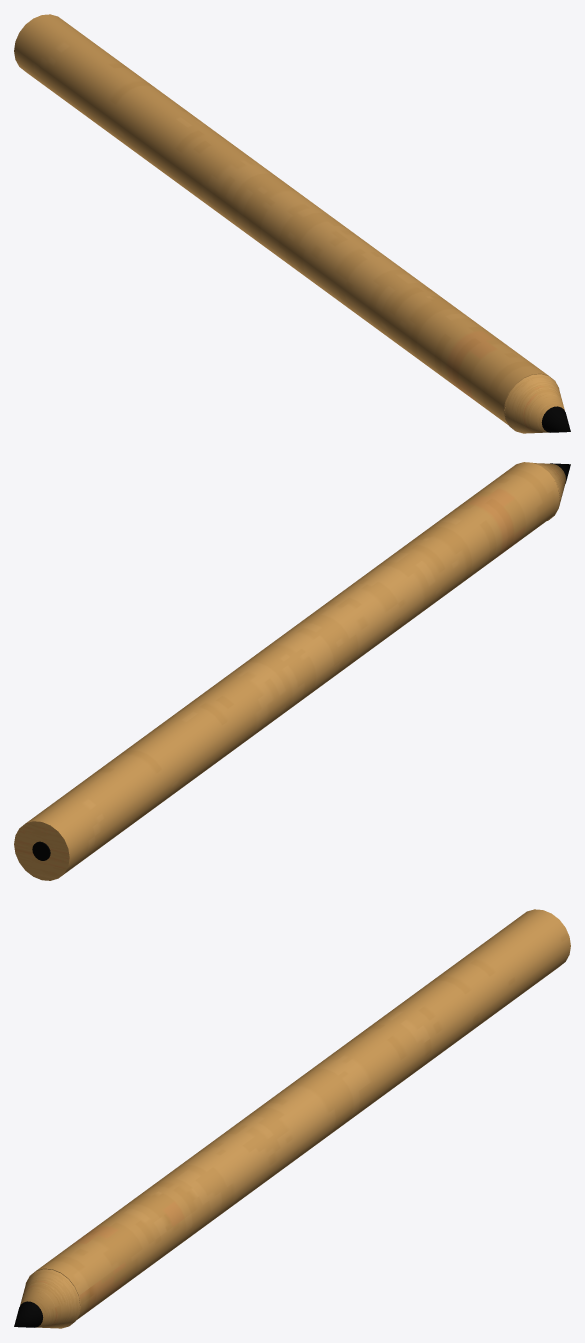
The model's file is pencil.fbx.
3 views of the same model, one above another, from view 1: azimuth 30°, elevation 25°; view 2: azimuth 150°, elevation 25°; view 3: azimuth 330°, elevation 25° (orthographic).
Visible parts, largest first — view 1: pCone3; view 2: pCone3; view 3: pCone3.
Part boxes in pixels (left/top/right/bottom): pCone3: left=14, top=14, right=570, bottom=433; pCone3: left=14, top=462, right=570, bottom=880; pCone3: left=14, top=909, right=570, bottom=1328.
Size of the model in its own units: 0.1736 by 0.1742 by 2.83.
Materials: 2 (1 with a texture image).
